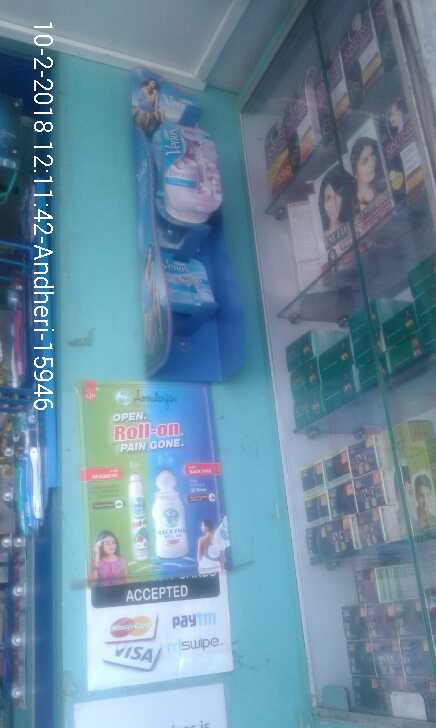beauty: (158, 121, 226, 222), (162, 256, 214, 307)
